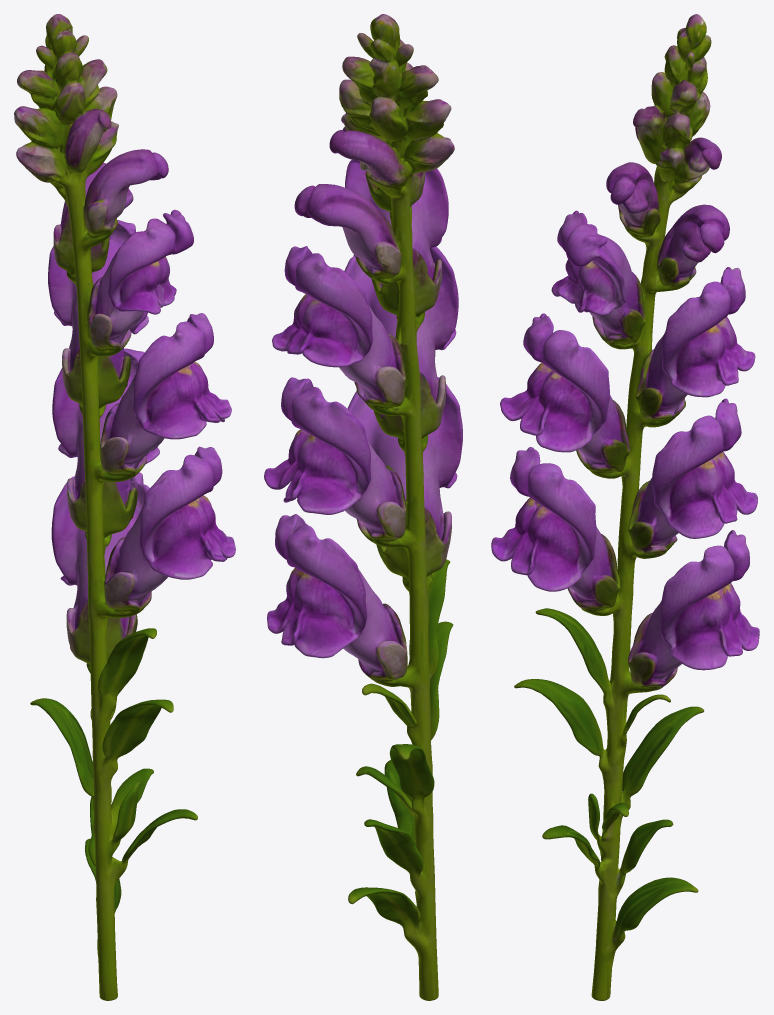
File: Foxglove Purple.glb
The picture shows the model from 3 angles, left to right: view 1: azimuth 30°, elevation 25°; view 2: azimuth 150°, elevation 25°; view 3: azimuth 270°, elevation 25°; orthographic projection. The views are drawn at different scales.
Parts seen in each view (by area): view 1: tripo_node_6935191f-6868-42c2-86a4-04720e6ecccb; view 2: tripo_node_6935191f-6868-42c2-86a4-04720e6ecccb; view 3: tripo_node_6935191f-6868-42c2-86a4-04720e6ecccb.
Part boxes in pixels (x1,y1,x2,y2): tripo_node_6935191f-6868-42c2-86a4-04720e6ecccb: (14, 14, 235, 1000); tripo_node_6935191f-6868-42c2-86a4-04720e6ecccb: (264, 14, 462, 1000); tripo_node_6935191f-6868-42c2-86a4-04720e6ecccb: (491, 14, 759, 1000).
Bounding box in the file's own units: 0.1688 × 0.9999 × 0.2481.
Materials: 1 (1 with a texture image).
